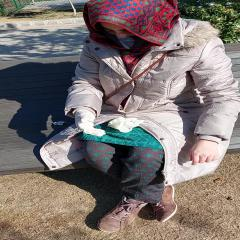gloved: (72, 109, 105, 136)
not-gloved: (191, 139, 219, 165)
